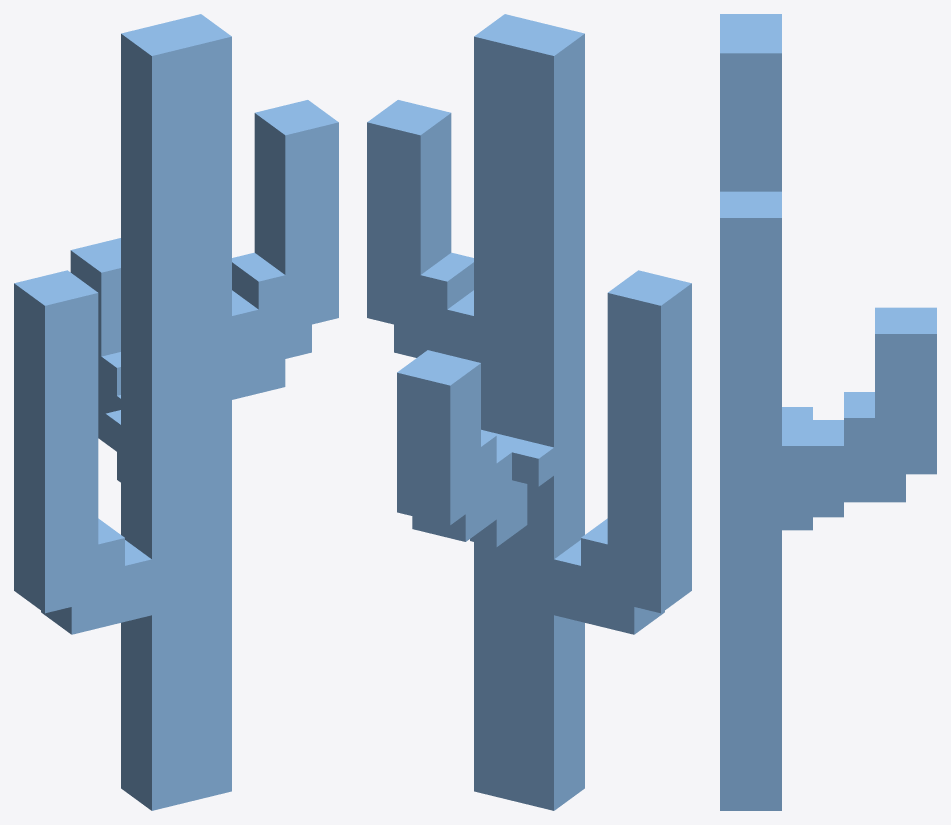
Rendered from bigCactus.glb.
3 renders of one model, left to right at view 1: azimuth 30°, elevation 25°; view 2: azimuth 150°, elevation 25°; view 3: azimuth 270°, elevation 25°, orthographic.
Parts seen in each view (by area): view 1: ObjObject.; view 2: ObjObject.; view 3: ObjObject..
Part boxes in pixels (x1,y1,x2,y2): ObjObject.: (14, 14, 338, 810); ObjObject.: (367, 14, 691, 810); ObjObject.: (720, 14, 936, 810).
Size of the model in its own units: 1.1 by 2.7 by 0.7.
Materials: 1 (1 with a texture image).
